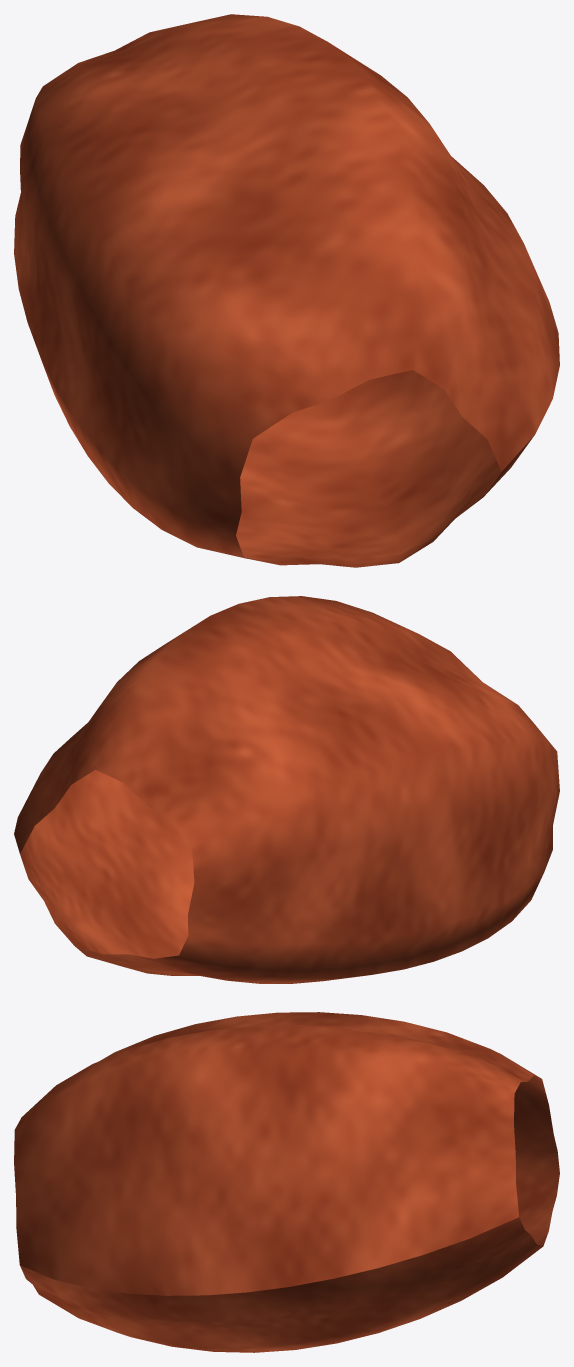
The model's file is 04_Meat_Braised_Front.obj.
The picture shows the model from 3 angles, top to bottom: view 1: azimuth 30°, elevation 25°; view 2: azimuth 150°, elevation 25°; view 3: azimuth 270°, elevation 25°; orthographic projection. The views are drawn at different scales.
Visible parts, largest first — view 1: 04_Meat_Braised_Front; view 2: 04_Meat_Braised_Front; view 3: 04_Meat_Braised_Front.
Boxes of the visible parts, x1,y1,x2,y2 form: 04_Meat_Braised_Front: [14, 14, 559, 567]; 04_Meat_Braised_Front: [14, 596, 559, 983]; 04_Meat_Braised_Front: [14, 1012, 559, 1352].
Size of the model in its own units: 0.0398 by 0.0333 by 0.0529.
1 material, 1 textured.
